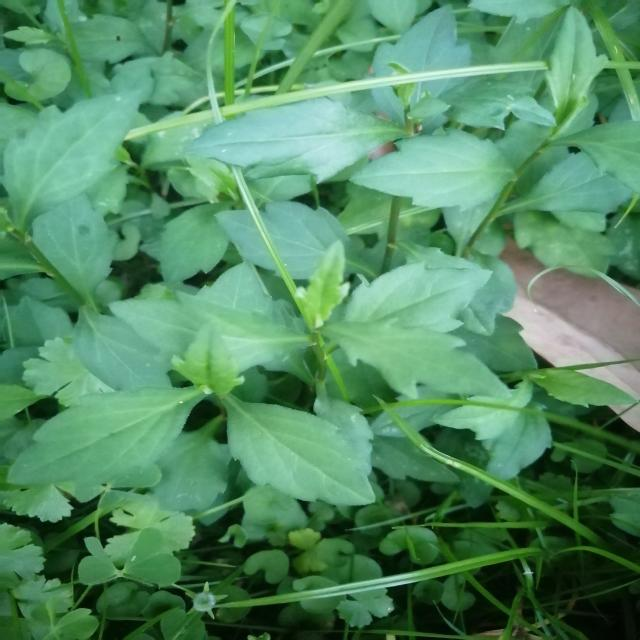Indian aster: (10, 225, 524, 511)
